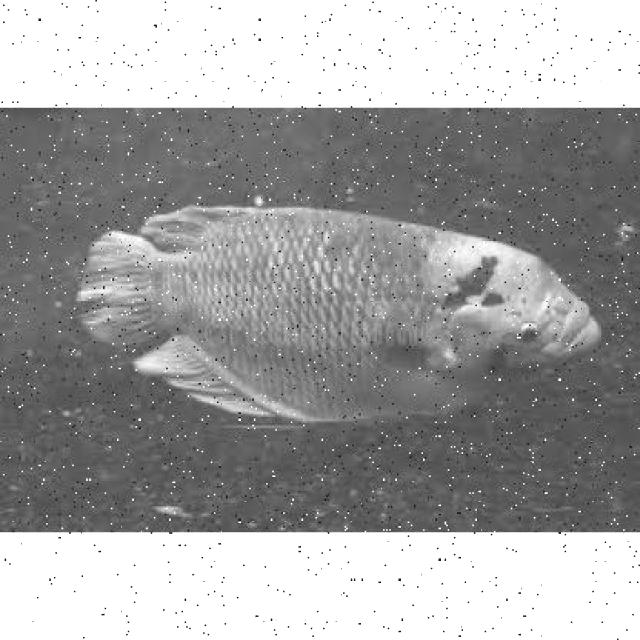gurame: (83, 201, 603, 424)
